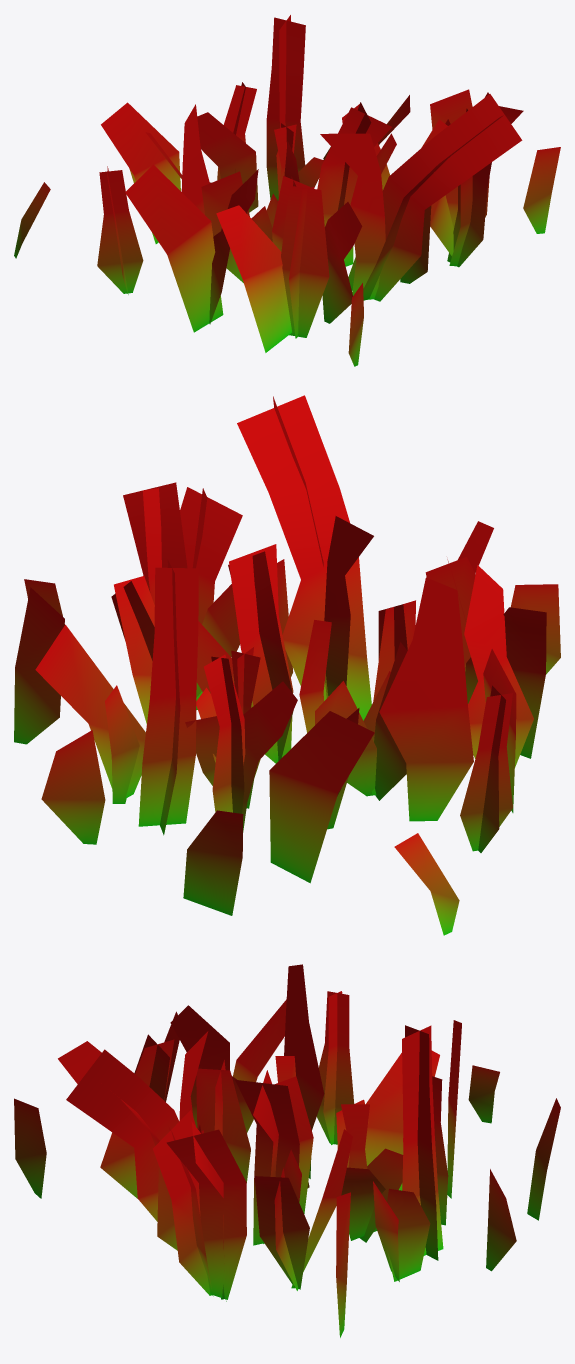
File: Var2_LOD0.fbx
3 views of the same model, one above another, from view 1: azimuth 30°, elevation 25°; view 2: azimuth 150°, elevation 25°; view 3: azimuth 270°, elevation 25° (orthographic). The views are drawn at different scales.
Parts seen in each view (by area): view 1: _e7ab_Var2_LOD0; view 2: _e7ab_Var2_LOD0; view 3: _e7ab_Var2_LOD0.
Part boxes in pixels (bbox=[...]): _e7ab_Var2_LOD0: bbox=[14, 15, 560, 366]; _e7ab_Var2_LOD0: bbox=[14, 395, 560, 935]; _e7ab_Var2_LOD0: bbox=[14, 964, 560, 1337].
Size of the model in its own units: 11.2 by 5.48 by 10.84.
